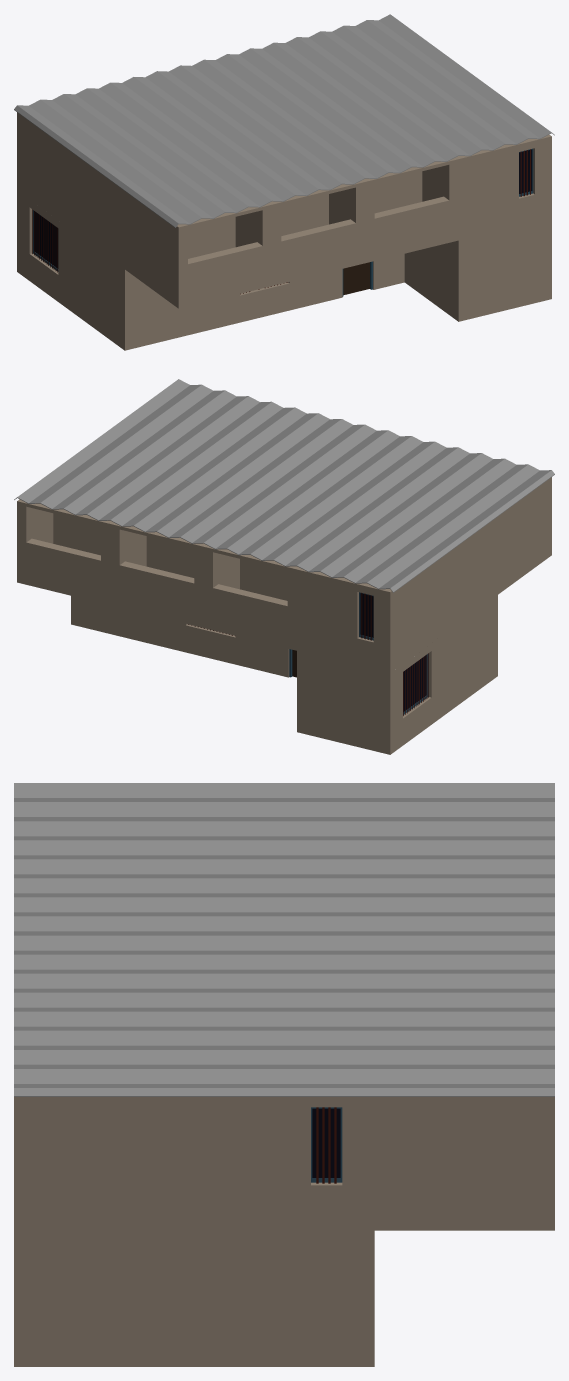
Rendered from SlumsBuilding1.fbx.
3 views of the same model, one above another, from view 1: azimuth 30°, elevation 25°; view 2: azimuth 150°, elevation 25°; view 3: azimuth 270°, elevation 25° (orthographic). The views are drawn at different scales.
Parts seen in each view (by area): view 1: Big Window.002; view 2: Big Window.002; view 3: Big Window.002.
Part boxes in pixels (x1,y1,x2,y2): Big Window.002: (14,14,554,350); Big Window.002: (14,379,554,754); Big Window.002: (14,783,554,1366).
Bounding box in the file's own units: 1220 × 512 × 900.
